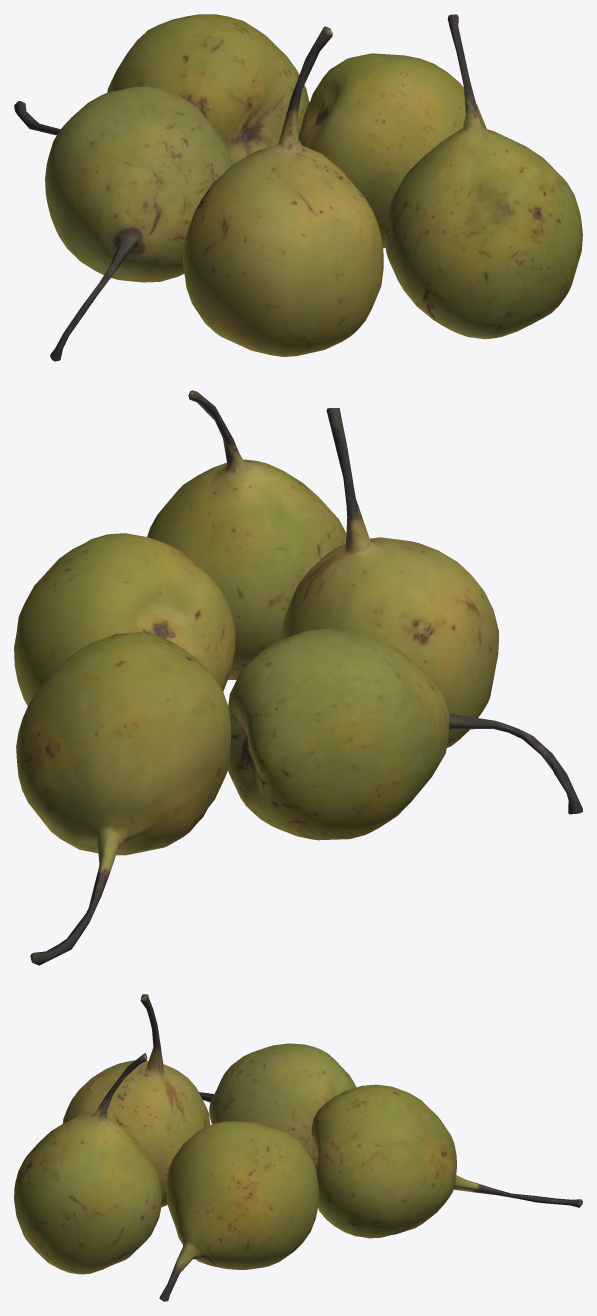
Rendered from food_pears_asian_01.glb.
The picture shows the model from 3 angles, top to bottom: view 1: azimuth 30°, elevation 25°; view 2: azimuth 150°, elevation 25°; view 3: azimuth 270°, elevation 25°; orthographic projection. The views are drawn at different scales.
Visible parts, largest first — view 1: food_pears_asian_01_c, food_pears_asian_01_e, food_pears_asian_01_a, food_pears_asian_01_d, food_pears_asian_01_b; view 2: food_pears_asian_01_b, food_pears_asian_01_a, food_pears_asian_01_c, food_pears_asian_01_e, food_pears_asian_01_d; view 3: food_pears_asian_01_d, food_pears_asian_01_b, food_pears_asian_01_e, food_pears_asian_01_a, food_pears_asian_01_c.
Part boxes in pixels (x1,y1,x2,y2): food_pears_asian_01_c: (182,26,383,356); food_pears_asian_01_e: (384,14,582,339); food_pears_asian_01_a: (45,86,233,361); food_pears_asian_01_d: (298,53,486,247); food_pears_asian_01_b: (14,14,309,164); food_pears_asian_01_b: (16,632,230,965); food_pears_asian_01_a: (228,628,582,840); food_pears_asian_01_c: (281,408,498,747); food_pears_asian_01_e: (147,390,346,679); food_pears_asian_01_d: (14,533,235,705); food_pears_asian_01_d: (159,1121,319,1301); food_pears_asian_01_b: (311,1084,582,1238); food_pears_asian_01_e: (14,1053,161,1274); food_pears_asian_01_a: (199,1043,356,1167); food_pears_asian_01_c: (62,994,210,1207).
Bounding box in the file's own units: 0.1261 × 0.0711 × 0.1669.
Materials: 1 (1 with a texture image).
